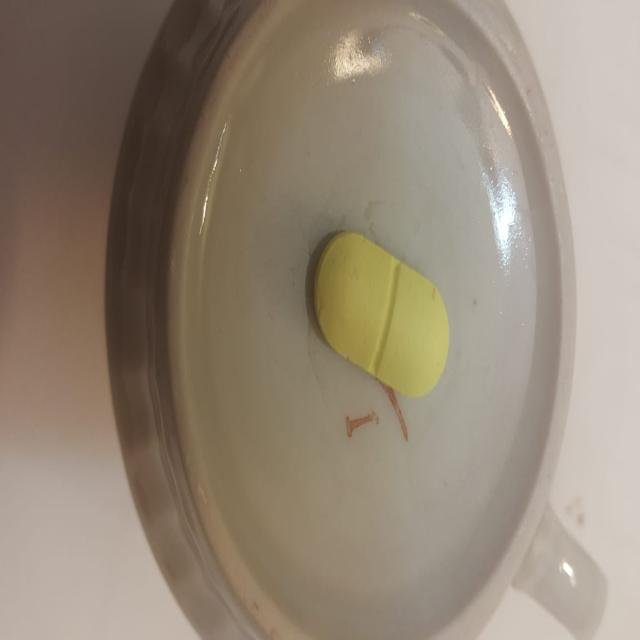pills: (309, 223, 455, 404)
